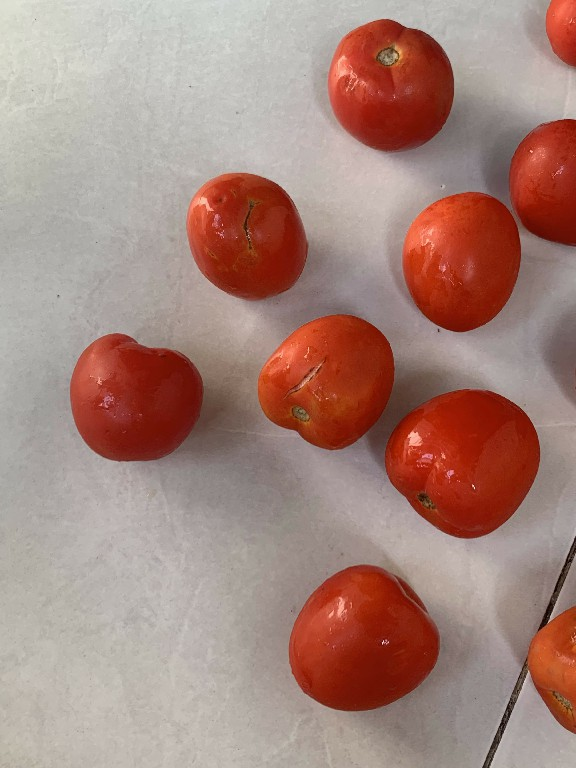NG: (256, 311, 398, 457), (179, 168, 310, 303)
OK: (379, 386, 545, 541), (282, 558, 437, 714), (63, 325, 207, 467), (322, 14, 456, 152), (400, 188, 524, 337), (502, 113, 575, 253)
